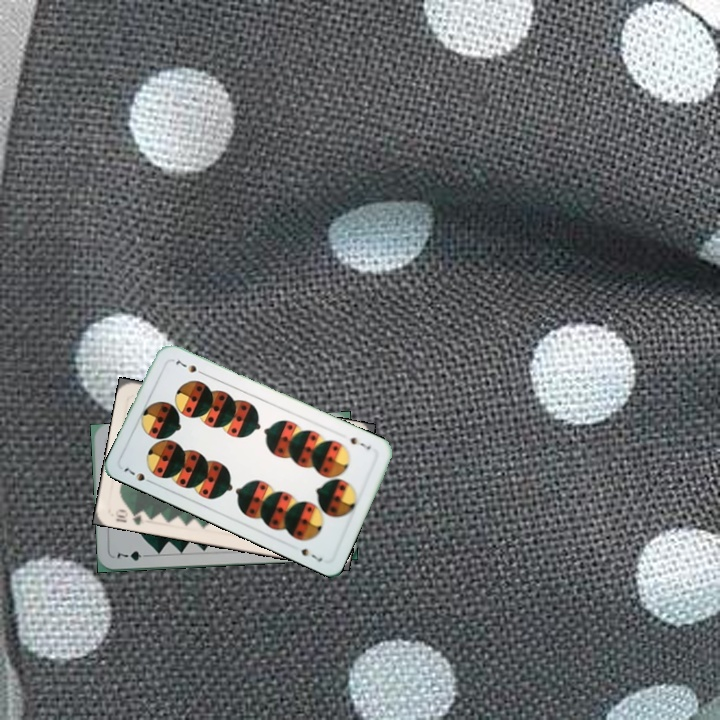G10: (111, 505, 150, 527)
G7: (113, 547, 152, 563)
S7: (119, 463, 157, 487), (346, 433, 373, 452)
